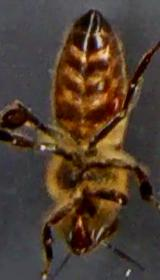varroa_mite: (100, 82, 126, 120)
